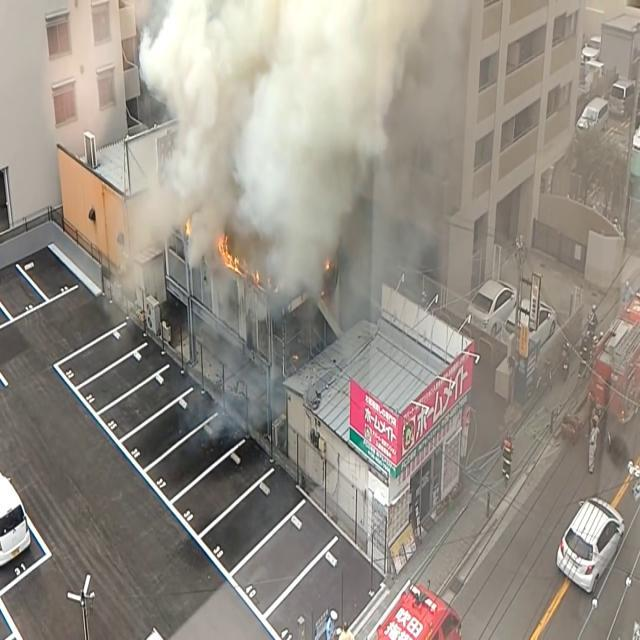Fire: (213, 227, 243, 281)
Smoke: (118, 0, 461, 309)
